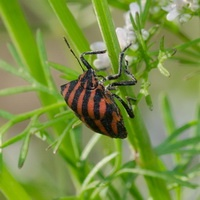insect: (61, 47, 136, 138)
